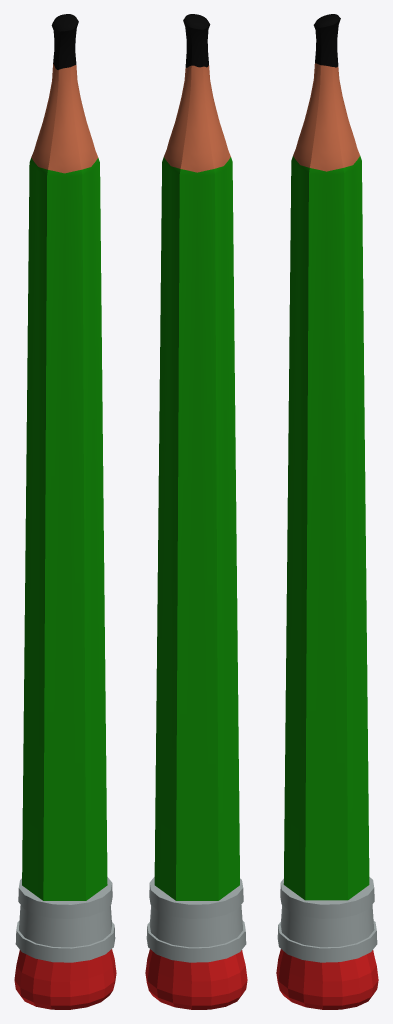
Rendered from Pencil_Eraser.FBX.
3 renders of one model, left to right at view 1: azimuth 30°, elevation 25°; view 2: azimuth 150°, elevation 25°; view 3: azimuth 330°, elevation 25°, orthographic.
Visible parts, largest first — view 1: Cylinder004; view 2: Cylinder004; view 3: Cylinder004.
Part boxes in pixels (box(x1,y1,x2,y2)): Cylinder004: box(14, 14, 116, 1009); Cylinder004: box(145, 14, 247, 1009); Cylinder004: box(276, 14, 378, 1009).
Bounding box in the file's own units: 43.62 × 450 × 41.81.
